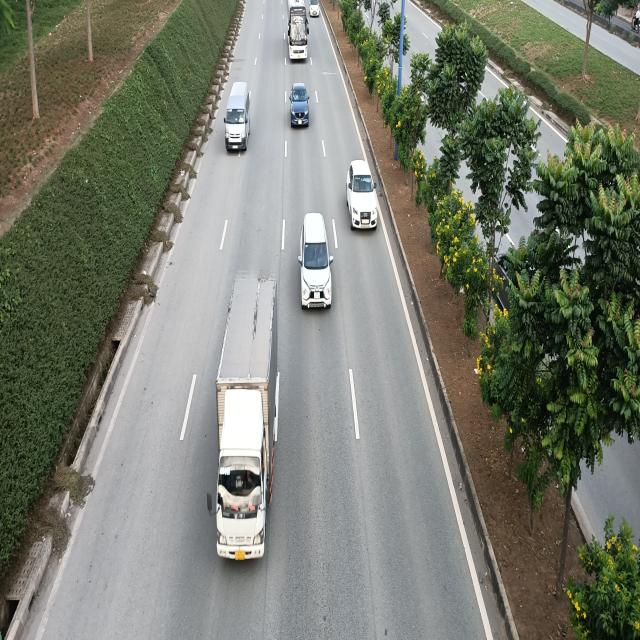car: (299, 214, 334, 310), (346, 159, 378, 230), (289, 82, 310, 126), (310, 0, 320, 16)
coach: (286, 0, 309, 61)
truck: (206, 274, 278, 559)
van: (224, 80, 251, 152)
